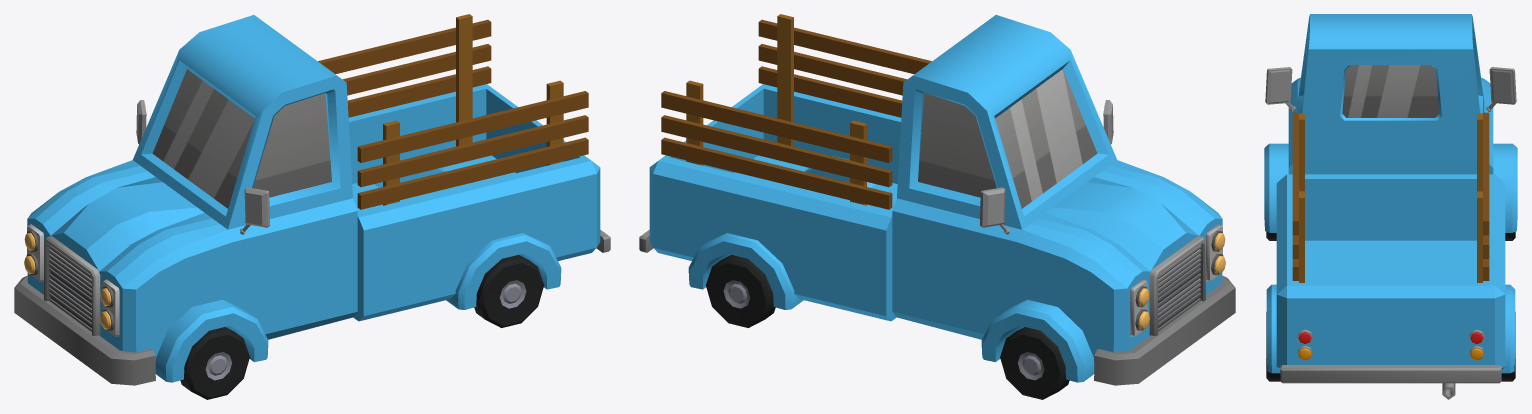
The model's file is Car_12_D.gltf.
The picture shows the model from 3 angles, left to right: view 1: azimuth 30°, elevation 25°; view 2: azimuth 150°, elevation 25°; view 3: azimuth 270°, elevation 25°; orthographic projection. The views are drawn at different scales.
Visible parts, largest first — view 1: Car_12_D, RL, FL; view 2: Car_12_D, RR, FR; view 3: Car_12_D.
Boxes of the visible parts, x1=… form: Car_12_D: x1=14, y1=14, x2=610, y2=385; RL: x1=474, y1=255, x2=544, y2=327; FL: x1=180, y1=327, x2=249, y2=399; Car_12_D: x1=639, y1=14, x2=1235, y2=385; RR: x1=705, y1=255, x2=775, y2=327; FR: x1=1000, y1=327, x2=1069, y2=399; Car_12_D: x1=1264, y1=14, x2=1517, y2=399.
Bounding box in the file's own units: 3.82 × 2.01 × 1.73.
Materials: 4 (4 with a texture image).
